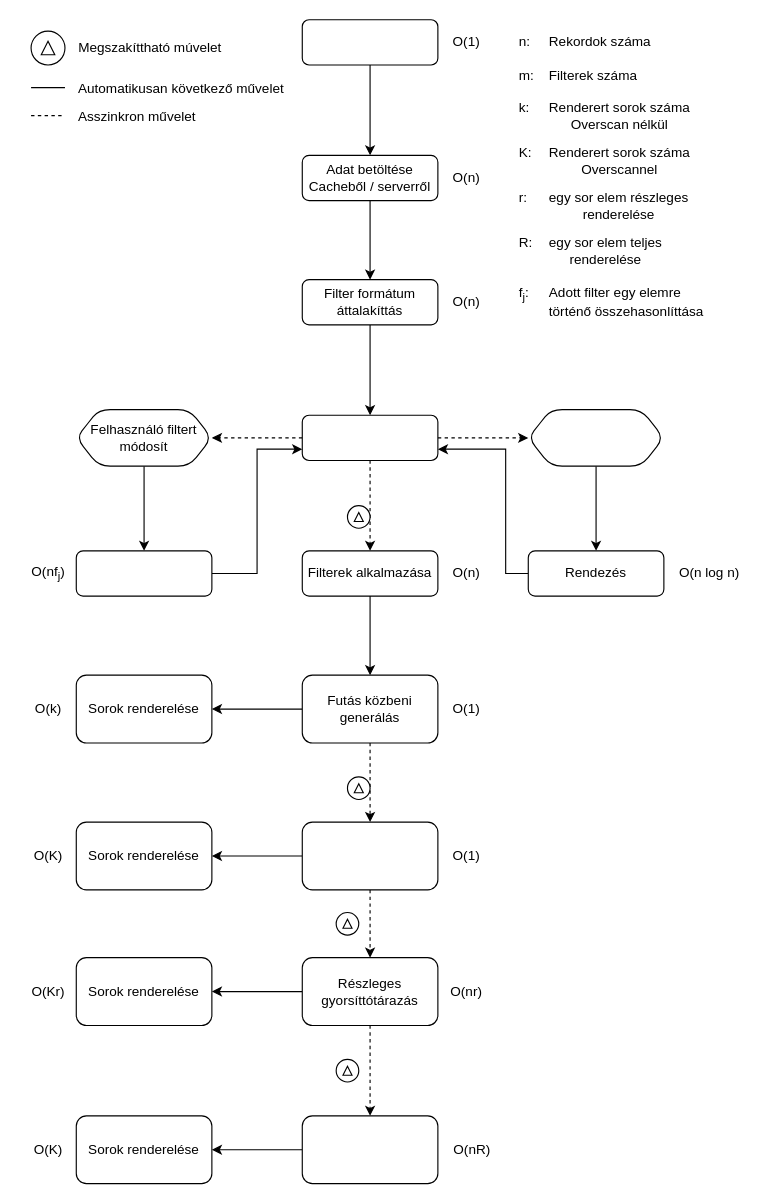
This 773x1203 diagram has some shape labels left out. The shapes that lost their labels are listed below. From the top down, each one's centre as x and y in pixels, then its label:
At (369,42): "Oldal betöltése".
At (369,437): "Filter formátúmú adat".
At (595,437): "Felhasználó rendez".
At (143,573): "Filter függvény maszk".
At (369,855): "Overscan felépíttése".
At (369,1149): "Teljes gyorsíttótárazás".
